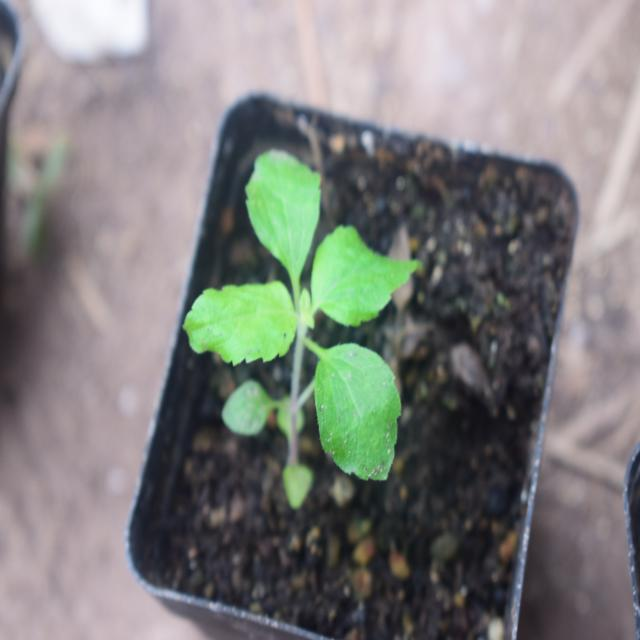billygoat_weed: (171, 147, 400, 464)
